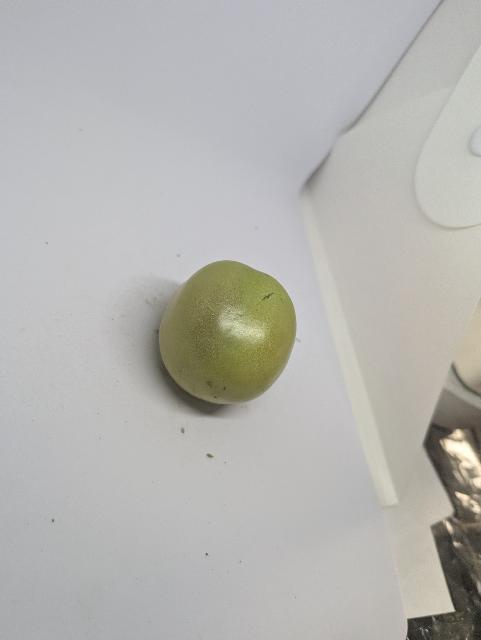green: (157, 259, 297, 407)
